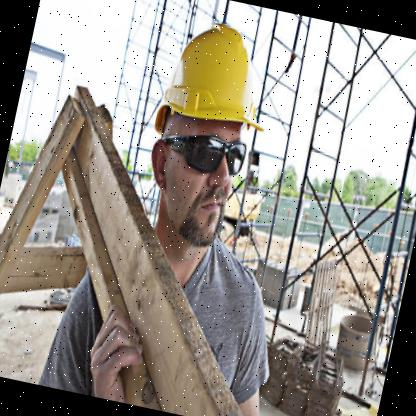oculos: (164, 130, 246, 177)
